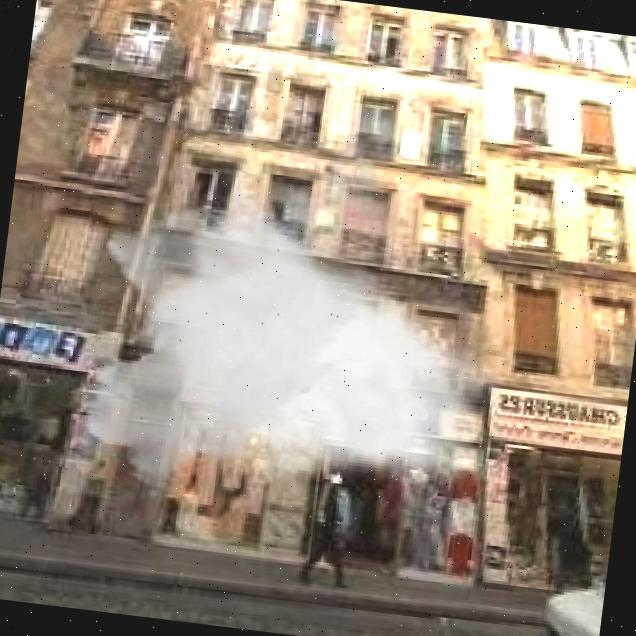smoke: (65, 113, 533, 539)
